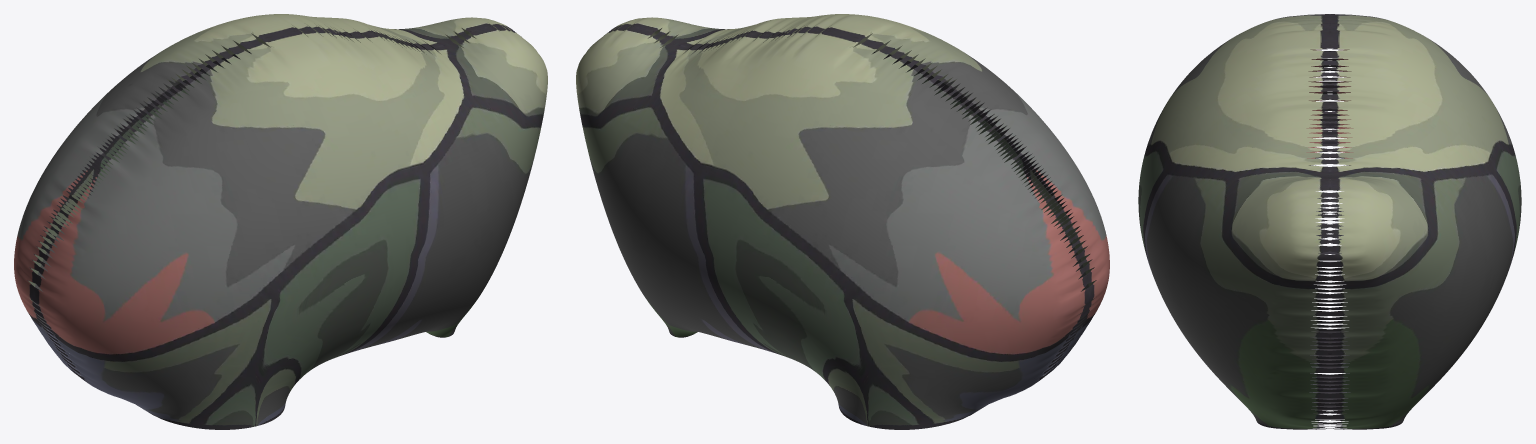
Rendered from console_boulder.glb.
3 renders of one model, left to right at view 1: azimuth 30°, elevation 25°; view 2: azimuth 150°, elevation 25°; view 3: azimuth 270°, elevation 25°, orthographic. The views are drawn at different scales.
Parts seen in each view (by area): view 1: console_boulder; view 2: console_boulder; view 3: console_boulder.
Boxes of the visible parts, left/top/right/bottom form: console_boulder: left=14, top=14, right=547, bottom=429; console_boulder: left=576, top=14, right=1109, bottom=429; console_boulder: left=1138, top=14, right=1521, bottom=429.
Bounding box in the file's own units: 0.9888 × 0.5807 × 0.6373.
Materials: 1 (1 with a texture image).
